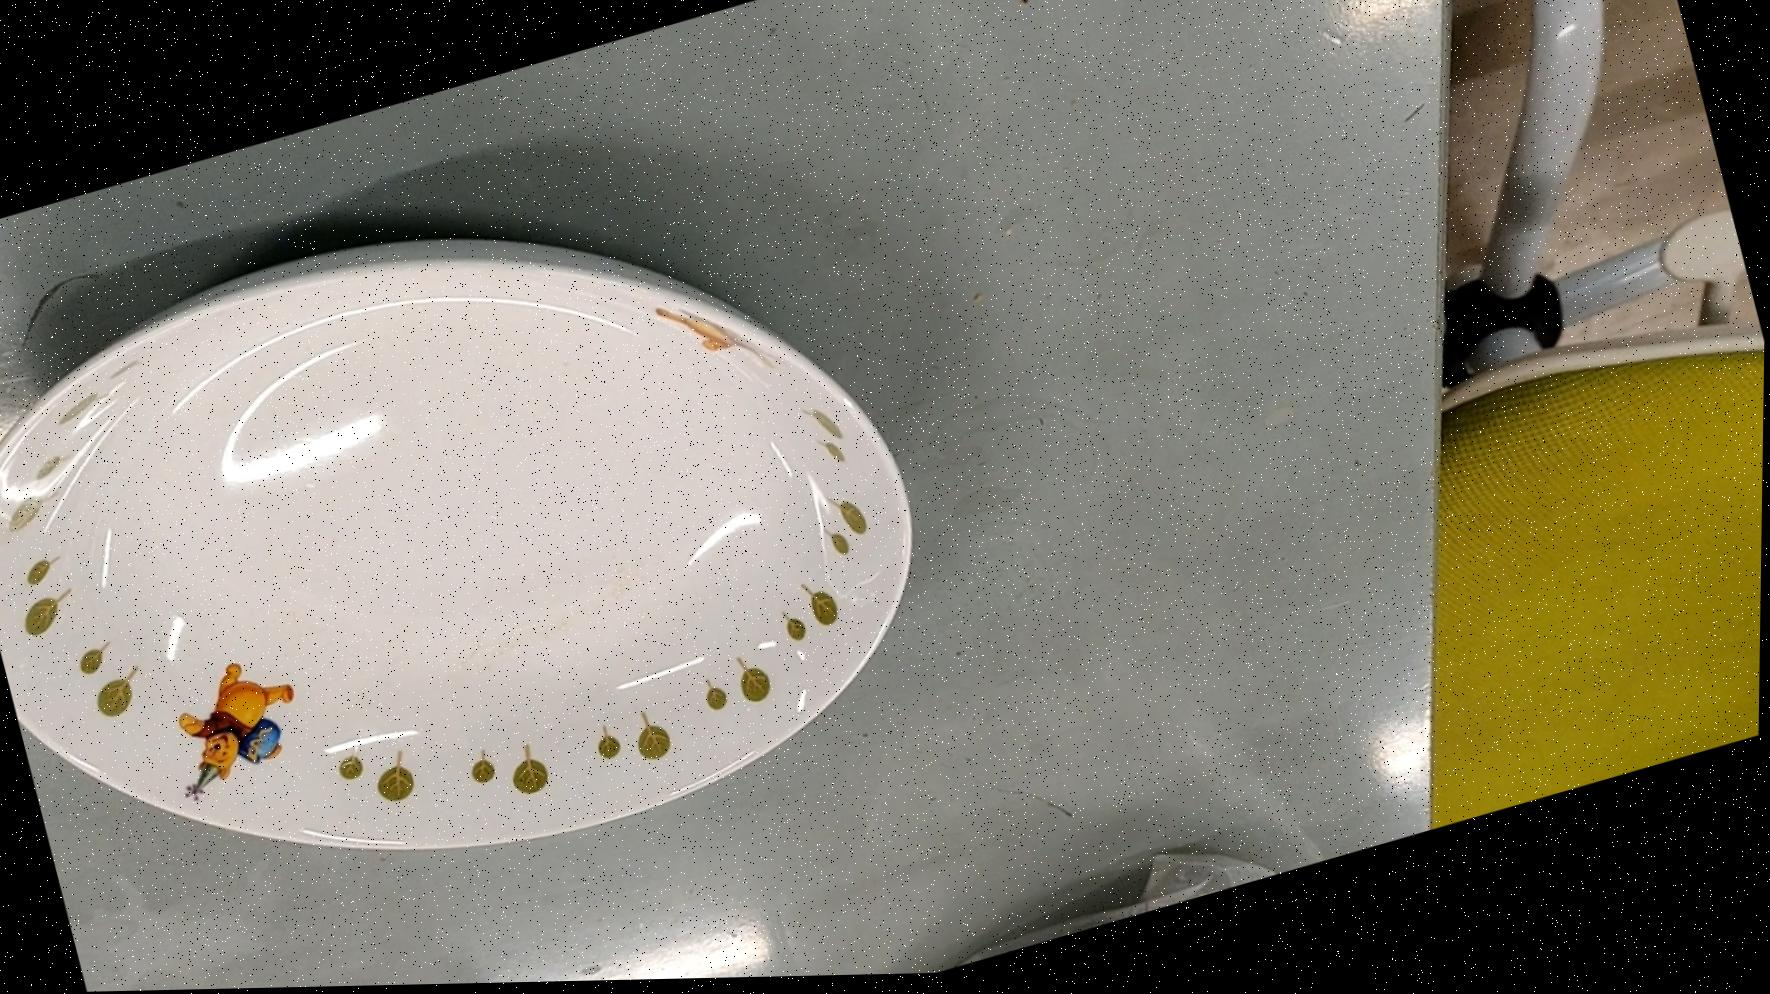plate: (0, 106, 977, 982)
